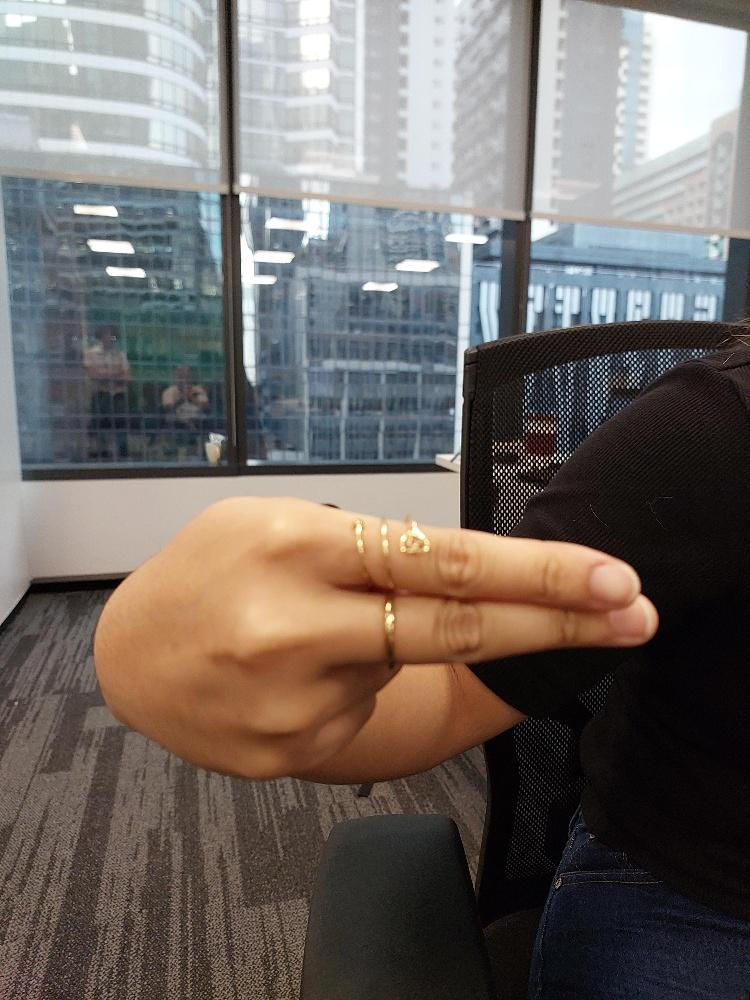h: (89, 491, 660, 783)
